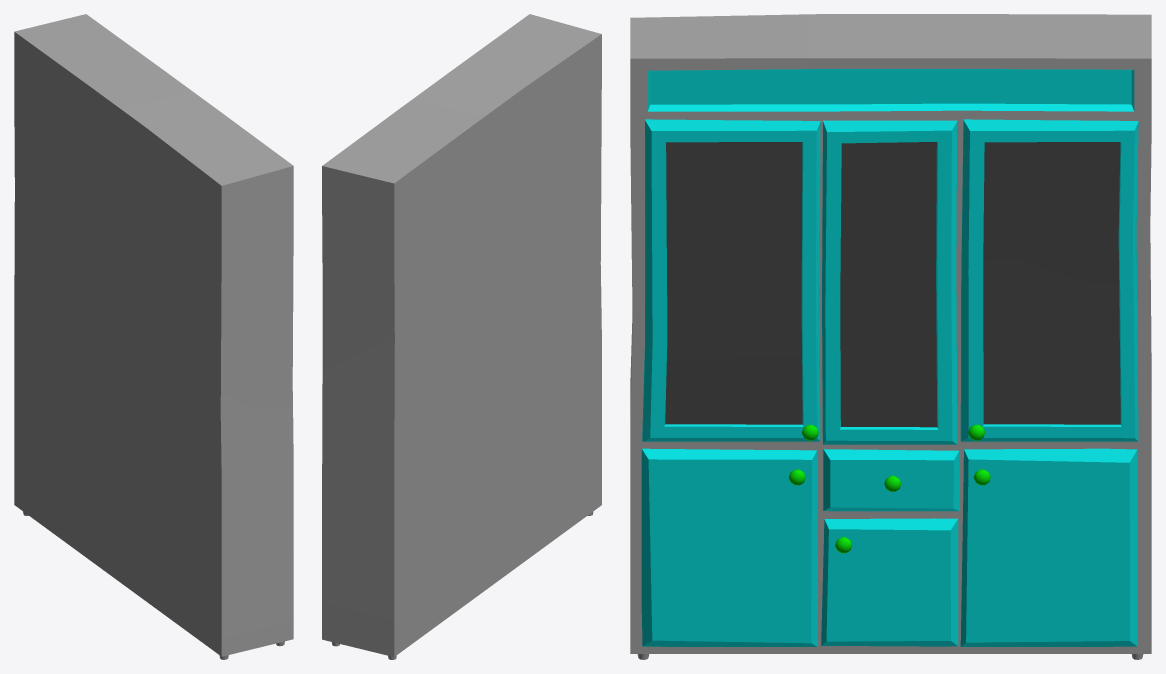
Rendered from Kitchen_Cupboard.fbx.
The picture shows the model from 3 angles, left to right: view 1: azimuth 30°, elevation 25°; view 2: azimuth 150°, elevation 25°; view 3: azimuth 270°, elevation 25°; orthographic projection. The views are drawn at different scales.
Visible parts, largest first — view 1: Kitchen_Cupboard; view 2: Kitchen_Cupboard; view 3: Kitchen_Cupboard.
Boxes of the visible parts, x1,y1,x2,y2 form: Kitchen_Cupboard: (14,14,293,659); Kitchen_Cupboard: (322,14,601,659); Kitchen_Cupboard: (630,14,1151,659).
Size of the model in its own units: 61.77 by 324 by 253.
